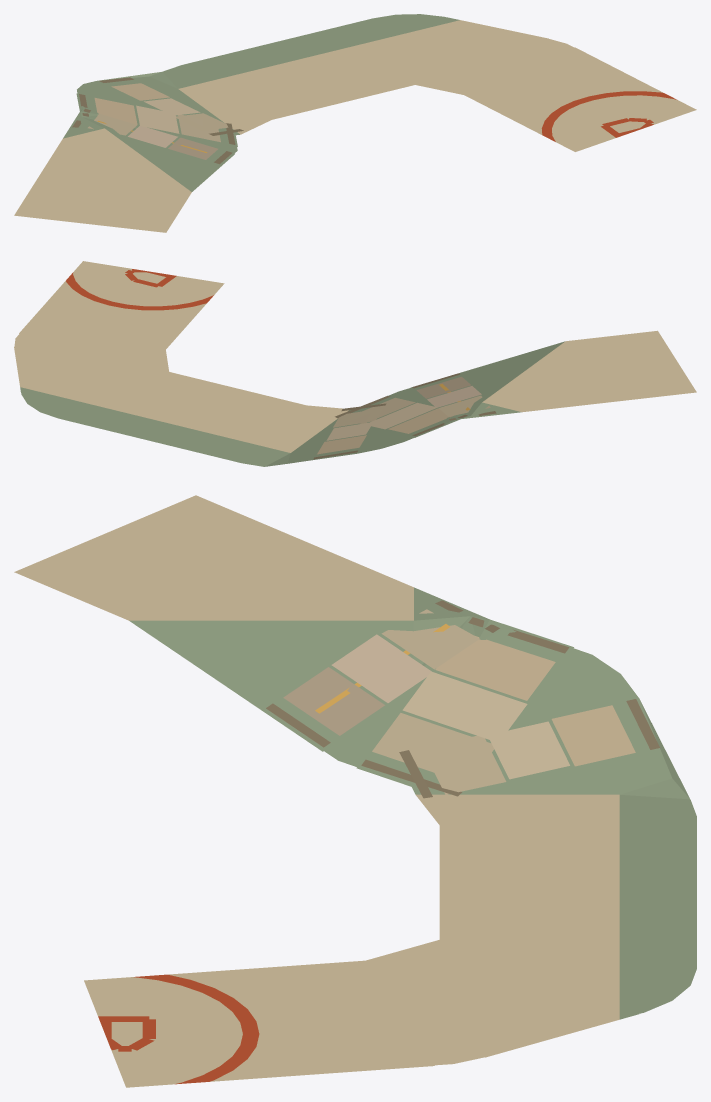
File: route-mid-b-ramp.glb
3 renders of one model, top to bottom at view 1: azimuth 30°, elevation 25°; view 2: azimuth 150°, elevation 25°; view 3: azimuth 270°, elevation 25°, orthographic. The views are drawn at different scales.
Parts seen in each view (by area): view 1: Surveyed floor · route-mid-b-ramp, Sluice to Bazaar Sanctuary / #BDAD8E, Sluice to Bazaar Sanctuary / #C9B798, Sluice to Bazaar Sanctuary / #C2AE8D, Sluice to Bazaar Sanctuary / #85775D, Sluice to Bazaar Sanctuary / #C7B399, Sluice to Bazaar Sanctuary / #AE9D84; view 2: Surveyed floor · route-mid-b-ramp, Sluice to Bazaar Sanctuary / #BDAD8E, Sluice to Bazaar Sanctuary / #C9B798, Sluice to Bazaar Sanctuary / #C2AE8D, Sluice to Bazaar Sanctuary / #85775D, Sluice to Bazaar Sanctuary / #C7B399, Sluice to Bazaar Sanctuary / #AE9D84; view 3: Surveyed floor · route-mid-b-ramp, Sluice to Bazaar Sanctuary / #BDAD8E, Sluice to Bazaar Sanctuary / #C9B798, Sluice to Bazaar Sanctuary / #C2AE8D, Sluice to Bazaar Sanctuary / #C7B399, Sluice to Bazaar Sanctuary / #AE9D84, Sluice to Bazaar Sanctuary / #85775D.
Part boxes in pixels (box(x1,y1,x2,y2)): Surveyed floor · route-mid-b-ramp: box(14, 14, 696, 232); Sluice to Bazaar Sanctuary / #BDAD8E: box(88, 113, 228, 142); Sluice to Bazaar Sanctuary / #C9B798: box(136, 98, 200, 133); Sluice to Bazaar Sanctuary / #C2AE8D: box(94, 83, 169, 124); Sluice to Bazaar Sanctuary / #85775D: box(72, 77, 243, 164); Sluice to Bazaar Sanctuary / #C7B399: box(128, 126, 177, 147); Sluice to Bazaar Sanctuary / #AE9D84: box(168, 137, 217, 159); Surveyed floor · route-mid-b-ramp: box(14, 261, 696, 466); Sluice to Bazaar Sanctuary / #BDAD8E: box(333, 395, 490, 427); Sluice to Bazaar Sanctuary / #C9B798: box(326, 402, 437, 440); Sluice to Bazaar Sanctuary / #C2AE8D: box(317, 408, 453, 454); Sluice to Bazaar Sanctuary / #85775D: box(313, 373, 496, 459); Sluice to Bazaar Sanctuary / #C7B399: box(427, 386, 481, 407); Sluice to Bazaar Sanctuary / #AE9D84: box(416, 376, 470, 398); Surveyed floor · route-mid-b-ramp: box(14, 495, 696, 1087); Sluice to Bazaar Sanctuary / #BDAD8E: box(372, 609, 506, 794); Sluice to Bazaar Sanctuary / #C9B798: box(402, 671, 569, 779); Sluice to Bazaar Sanctuary / #C2AE8D: box(435, 632, 635, 766); Sluice to Bazaar Sanctuary / #C7B399: box(331, 634, 431, 702); Sluice to Bazaar Sanctuary / #AE9D84: box(283, 667, 384, 735); Sluice to Bazaar Sanctuary / #85775D: box(266, 600, 659, 798).
Size of the model in its own units: 24.23 by 1.43 by 13.27.
